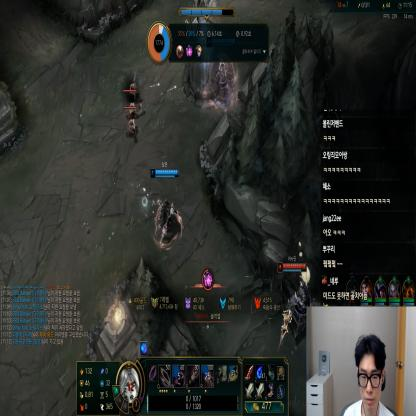streamer: (343, 334, 393, 416)
